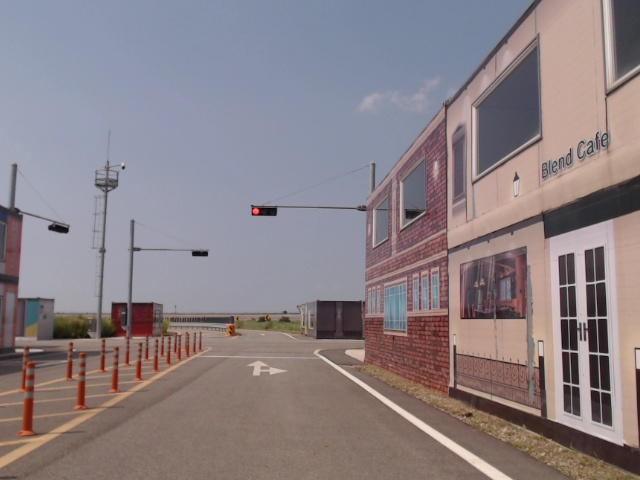red_3: (251, 206, 276, 215)
